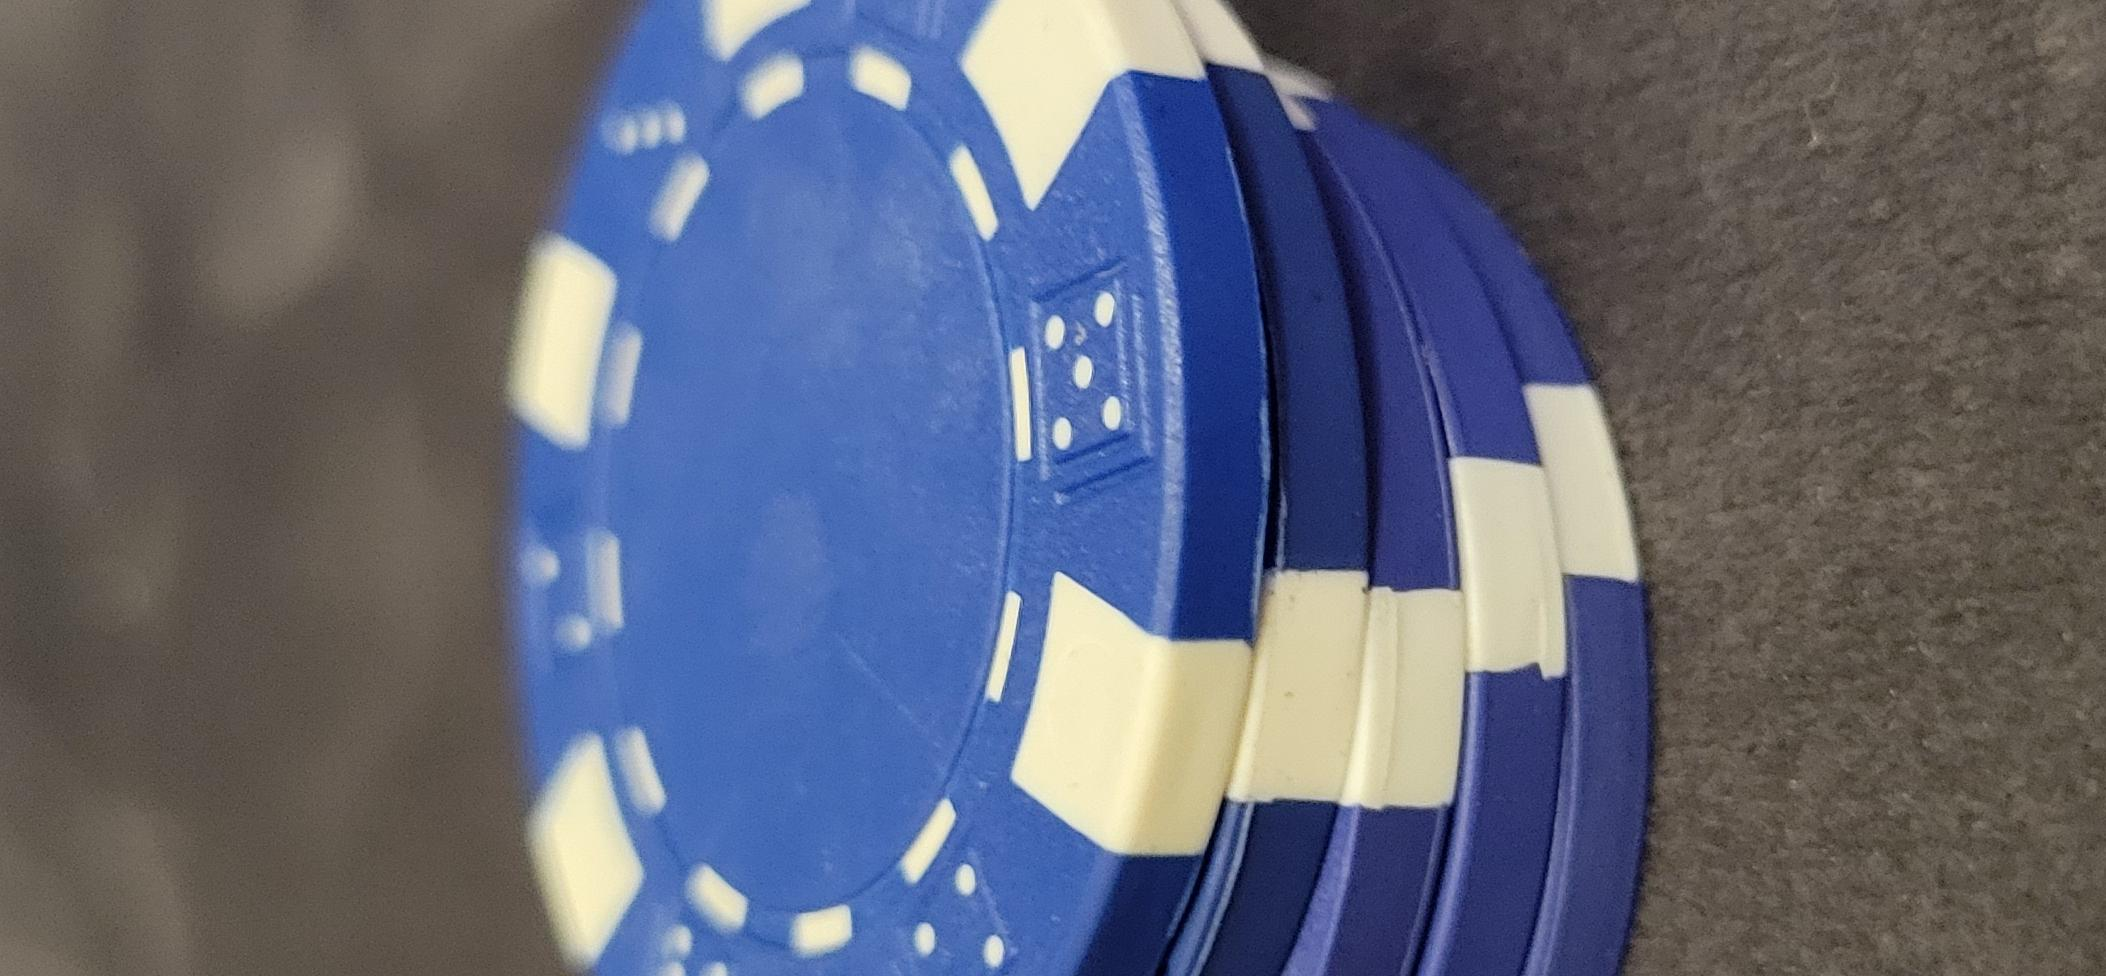Chip: (1, 322, 1363, 976)
